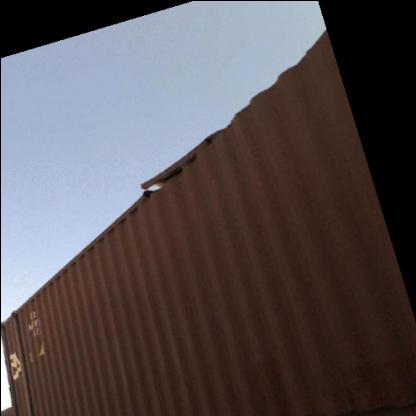Damage: (132, 125, 254, 224)
